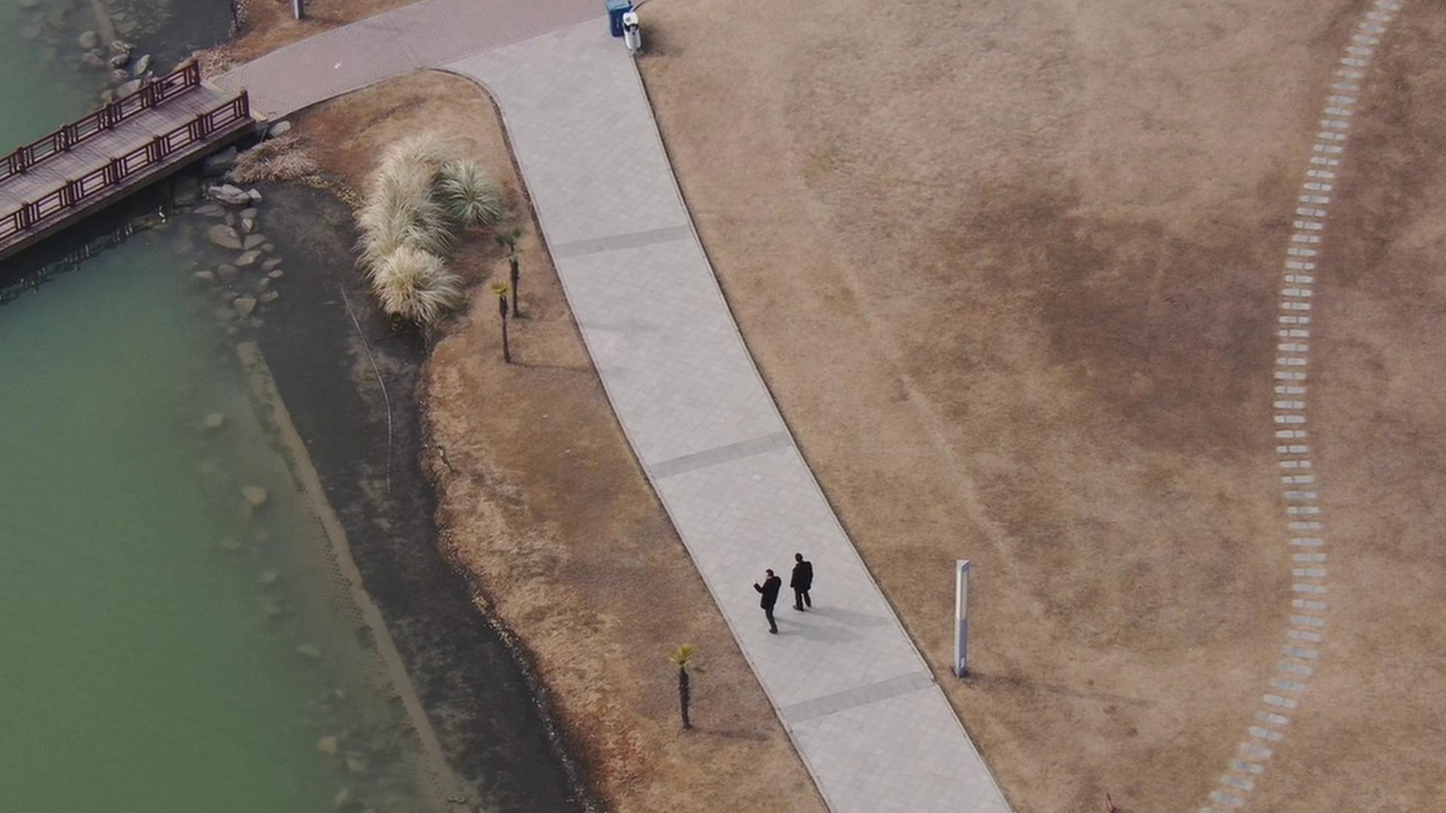human: (737, 554, 781, 625), (773, 540, 810, 609)
